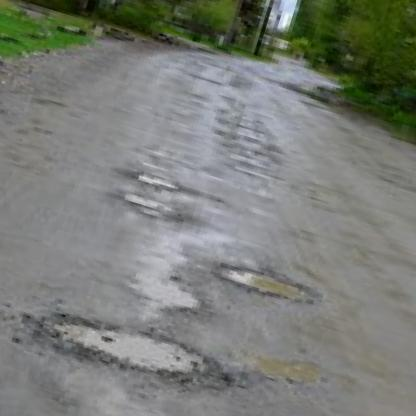pothole: (43, 304, 223, 391), (208, 258, 323, 311)
